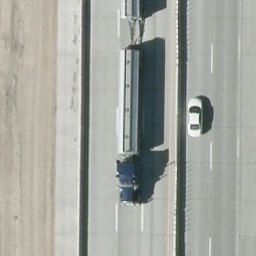car: (188, 99, 203, 138)
truck: (115, 50, 146, 205)
